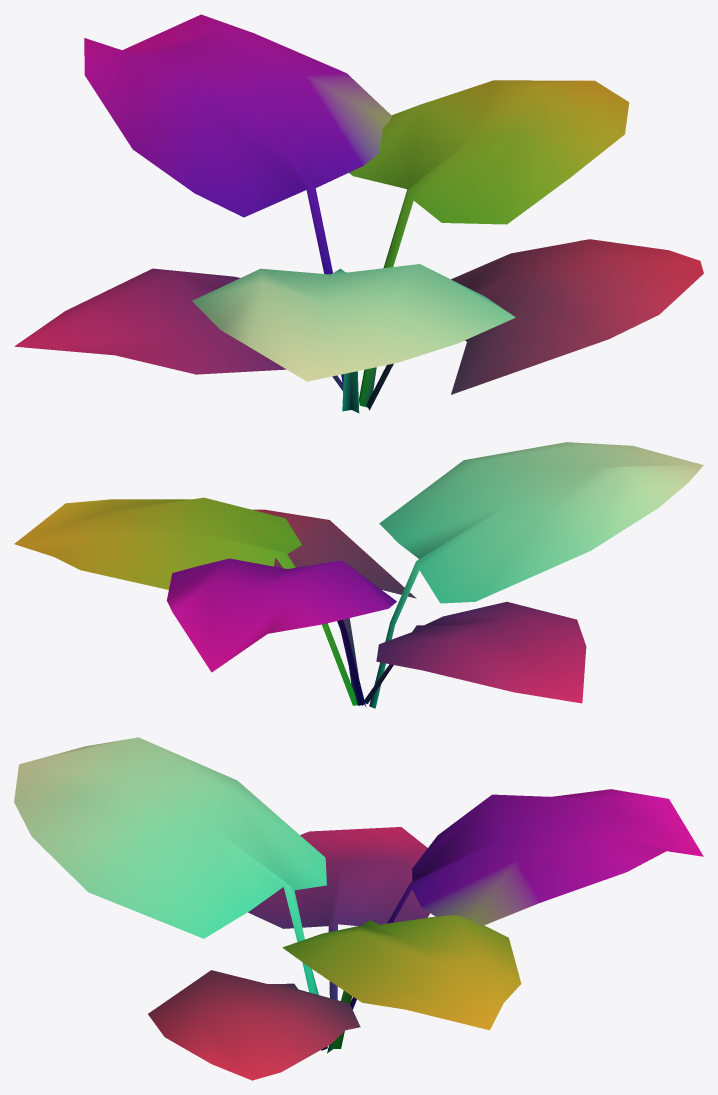
File: Greater Burdock_LOD2_Var4_xh5pdgiqx.fbx
The picture shows the model from 3 angles, top to bottom: view 1: azimuth 30°, elevation 25°; view 2: azimuth 150°, elevation 25°; view 3: azimuth 270°, elevation 25°; orthographic projection. The views are drawn at different scales.
Visible parts, largest first — view 1: _qlxw_Var4_LOD2; view 2: _qlxw_Var4_LOD2; view 3: _qlxw_Var4_LOD2.
Part boxes in pixels (bbox=[...]): _qlxw_Var4_LOD2: bbox=[14, 14, 703, 413]; _qlxw_Var4_LOD2: bbox=[14, 442, 703, 708]; _qlxw_Var4_LOD2: bbox=[14, 737, 703, 1080].
Bounding box in the file's own units: 40.05 × 15.72 × 43.51.
